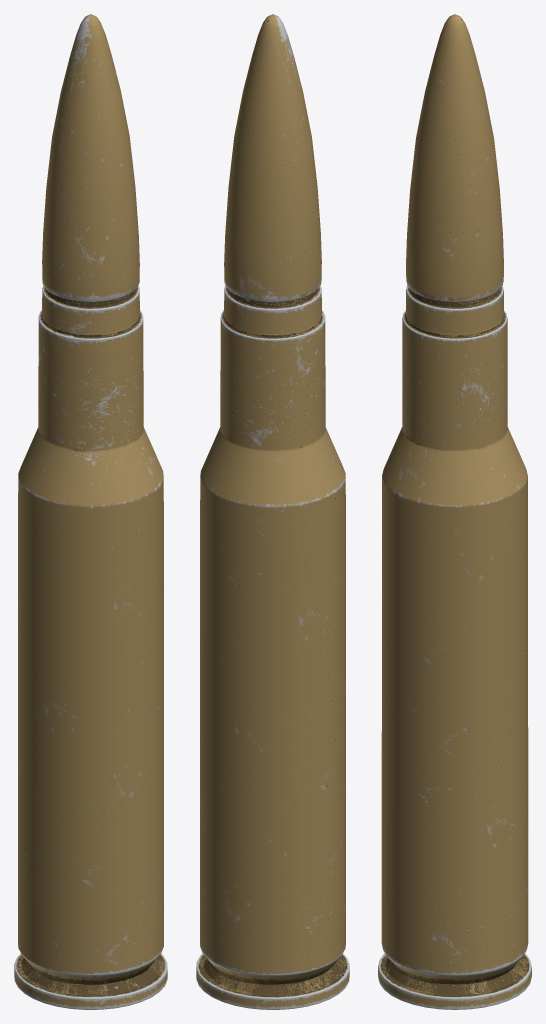
The model's file is Bullet.fbx.
3 views of the same model, side by side, from view 1: azimuth 30°, elevation 25°; view 2: azimuth 150°, elevation 25°; view 3: azimuth 270°, elevation 25° (orthographic).
Visible parts, largest first — view 1: Line001; view 2: Line001; view 3: Line001.
Part boxes in pixels (left/top/right/bottom): Line001: left=14, top=14, right=167, bottom=1009; Line001: left=196, top=14, right=349, bottom=1009; Line001: left=378, top=14, right=531, bottom=1009.
Size of the model in its own units: 484 by 3345 by 484.
1 material, 1 textured.
